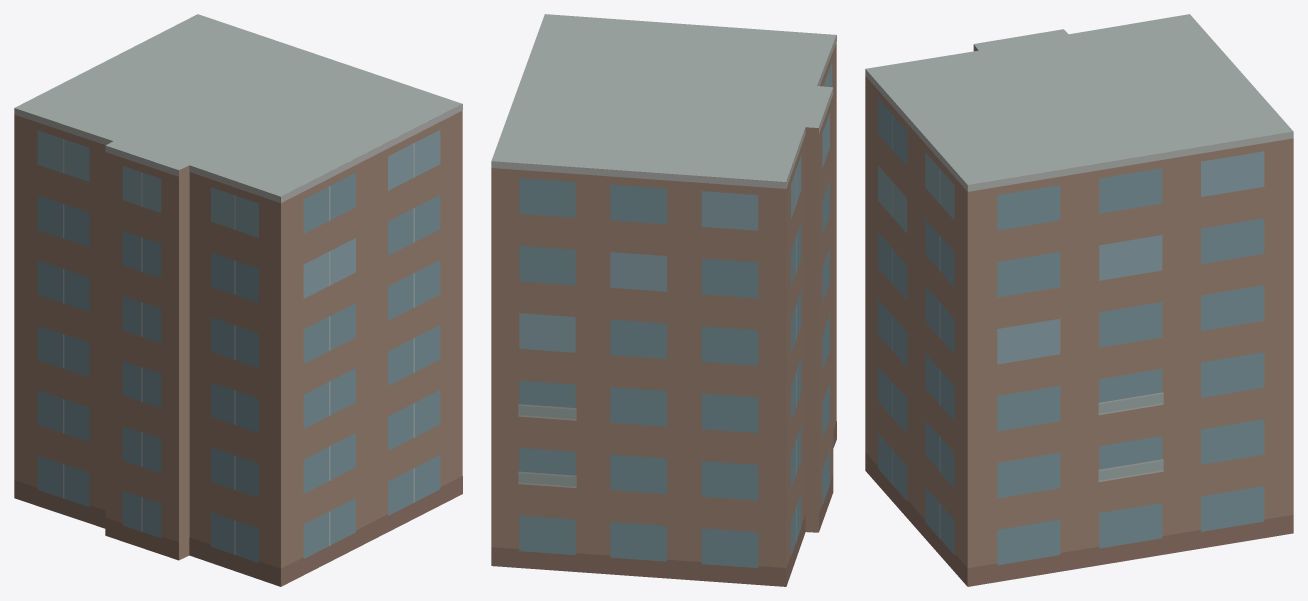
Rendered from survey-upis-32850452.glb.
3 views of the same model, side by side, from view 1: azimuth 30°, elevation 25°; view 2: azimuth 150°, elevation 25°; view 3: azimuth 270°, elevation 25° (orthographic). The views are drawn at different scales.
Visible parts, largest first — view 1: survey-upis-32850452.tmp; view 2: survey-upis-32850452.tmp; view 3: survey-upis-32850452.tmp.
Part boxes in pixels (box(x1,y1,x2,y2)): survey-upis-32850452.tmp: box(14, 14, 462, 586); survey-upis-32850452.tmp: box(491, 14, 836, 586); survey-upis-32850452.tmp: box(865, 14, 1293, 586).
Bounding box in the file's own units: 13.26 × 14.5 × 14.02.
